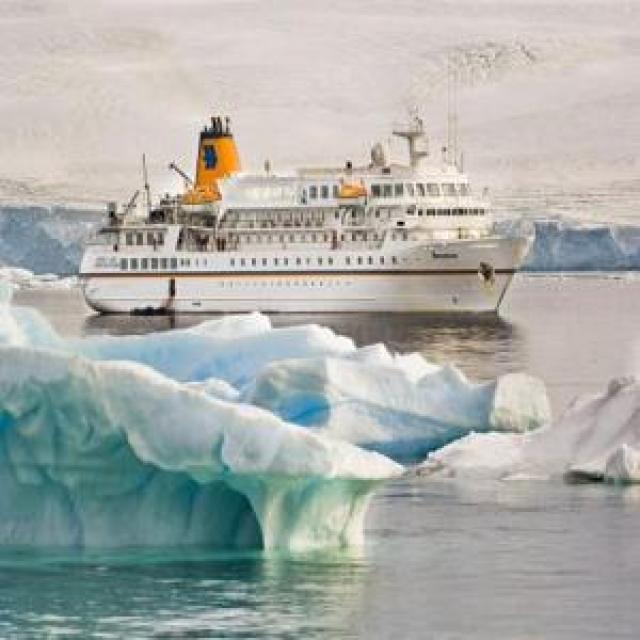passenger ship: (78, 114, 525, 312)
